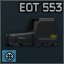EOTech 553 holographic sight: (0, 0, 64, 64)
